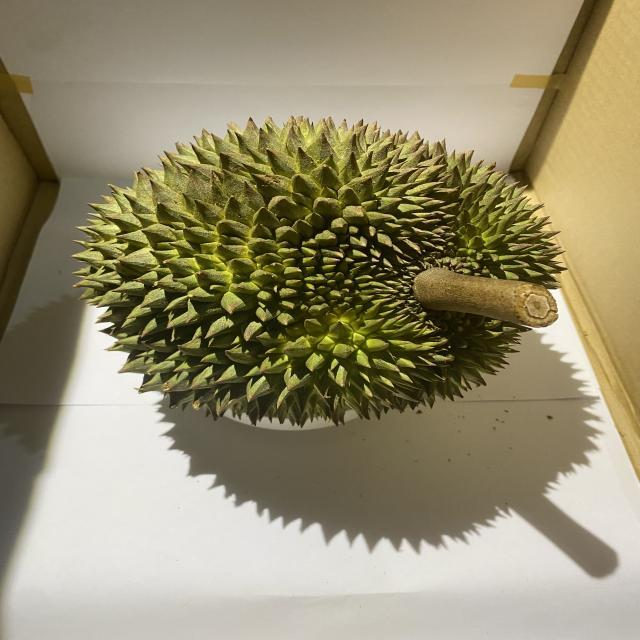immature: (72, 114, 570, 430)
